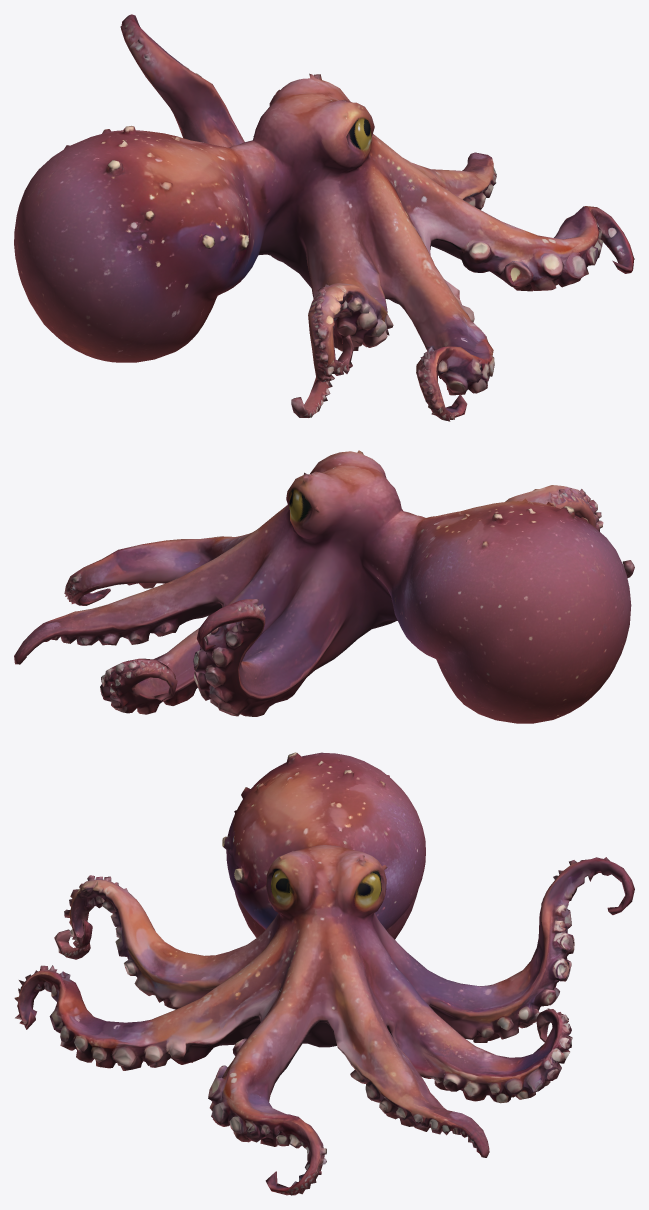
The model's file is octopus.glb.
3 renders of one model, top to bottom at view 1: azimuth 30°, elevation 25°; view 2: azimuth 150°, elevation 25°; view 3: azimuth 270°, elevation 25°, orthographic. The views are drawn at different scales.
Parts seen in each view (by area): view 1: tripo_node_72c9cde2-06cb-43e3-a0d0-52037f5b7522; view 2: tripo_node_72c9cde2-06cb-43e3-a0d0-52037f5b7522; view 3: tripo_node_72c9cde2-06cb-43e3-a0d0-52037f5b7522.
Part boxes in pixels (x1,y1,x2,y2): tripo_node_72c9cde2-06cb-43e3-a0d0-52037f5b7522: (14, 14, 634, 421); tripo_node_72c9cde2-06cb-43e3-a0d0-52037f5b7522: (14, 450, 634, 723); tripo_node_72c9cde2-06cb-43e3-a0d0-52037f5b7522: (14, 752, 634, 1195).
Size of the model in its own units: 1 by 0.3773 by 0.9851.
Materials: 1 (1 with a texture image).
